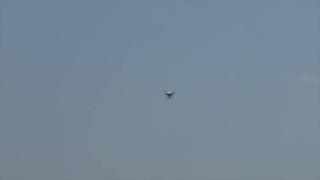UAV: (164, 91, 176, 100)
